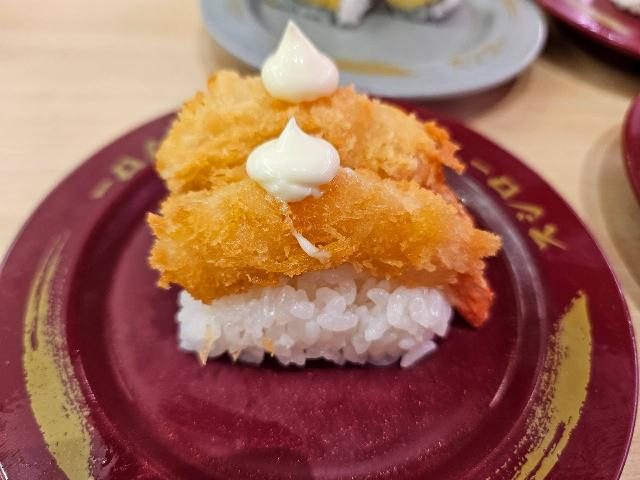janred: (65, 109, 593, 480), (534, 0, 640, 72), (616, 90, 640, 244)
janwhite: (207, 0, 520, 104)
